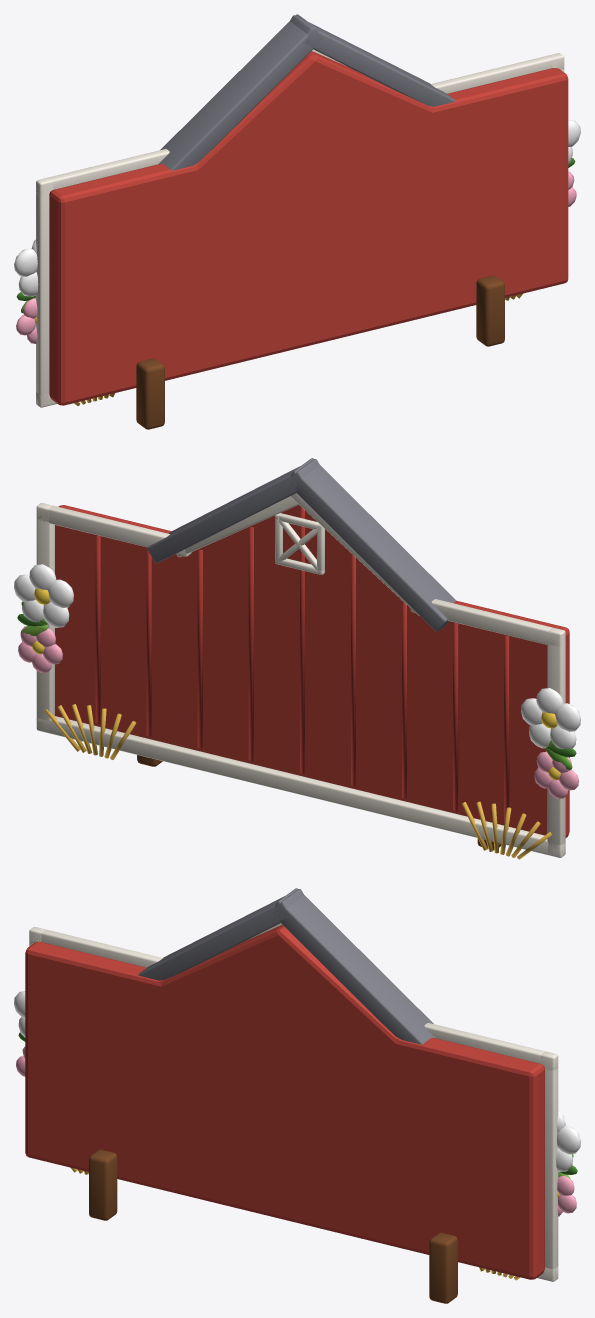
Rendered from TitleSign.fbx.
3 views of the same model, one above another, from view 1: azimuth 30°, elevation 25°; view 2: azimuth 150°, elevation 25°; view 3: azimuth 330°, elevation 25° (orthographic).
Visible parts, largest first — view 1: TitleSign; view 2: TitleSign; view 3: TitleSign.
Part boxes in pixels (<box>): TitleSign: <box>14,14,580,429</box>; TitleSign: <box>14,458,580,859</box>; TitleSign: <box>14,888,580,1303</box>.
Bounding box in the file's own units: 6.21 × 3.68 × 0.64.
1 material, 1 textured.
